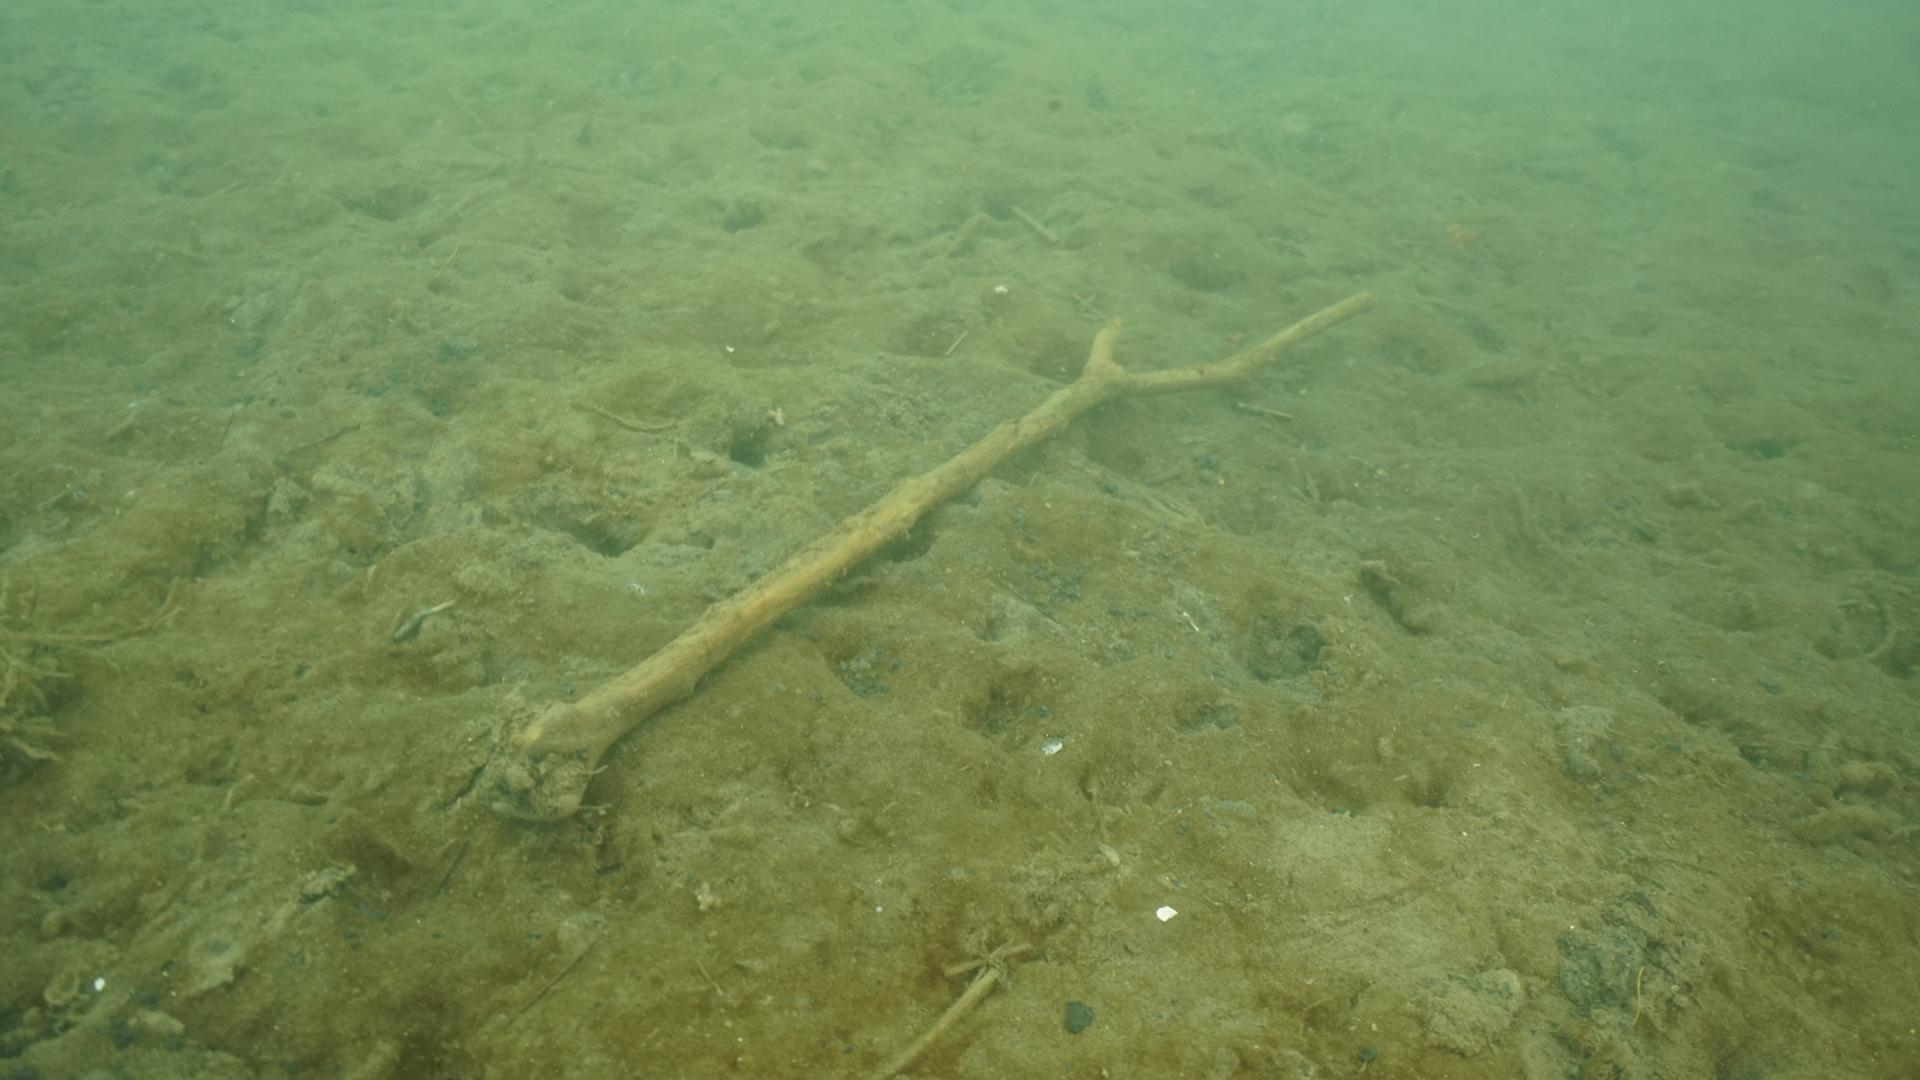wood: (487, 286, 1375, 820)
